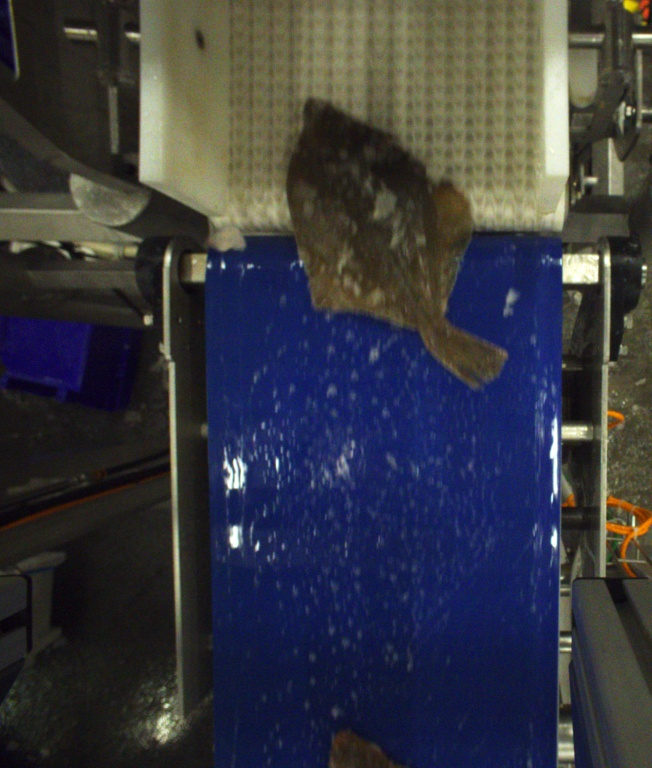PLE: (286, 99, 511, 392)
